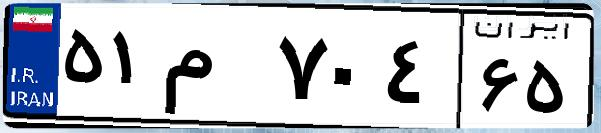0: (330, 28, 385, 110)
1: (110, 28, 158, 98)
4: (385, 28, 445, 110)
5: (57, 26, 110, 100), (525, 38, 570, 115)
6: (475, 38, 525, 113)
7: (270, 28, 330, 110)
م: (158, 20, 270, 120)
